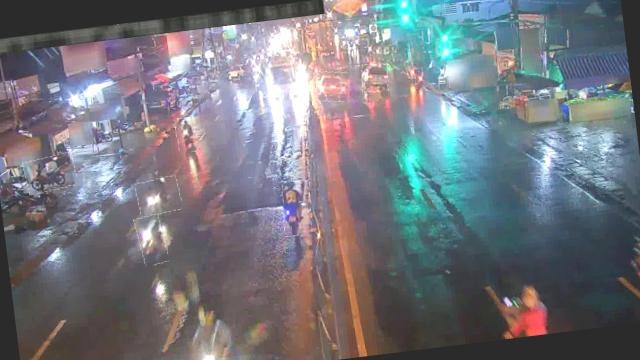Bike: (22, 152, 78, 194), (280, 179, 314, 237), (135, 175, 182, 216), (134, 214, 168, 266), (174, 116, 198, 152), (414, 67, 425, 89), (404, 59, 416, 79)
Car: (312, 68, 350, 104), (360, 62, 390, 93)
